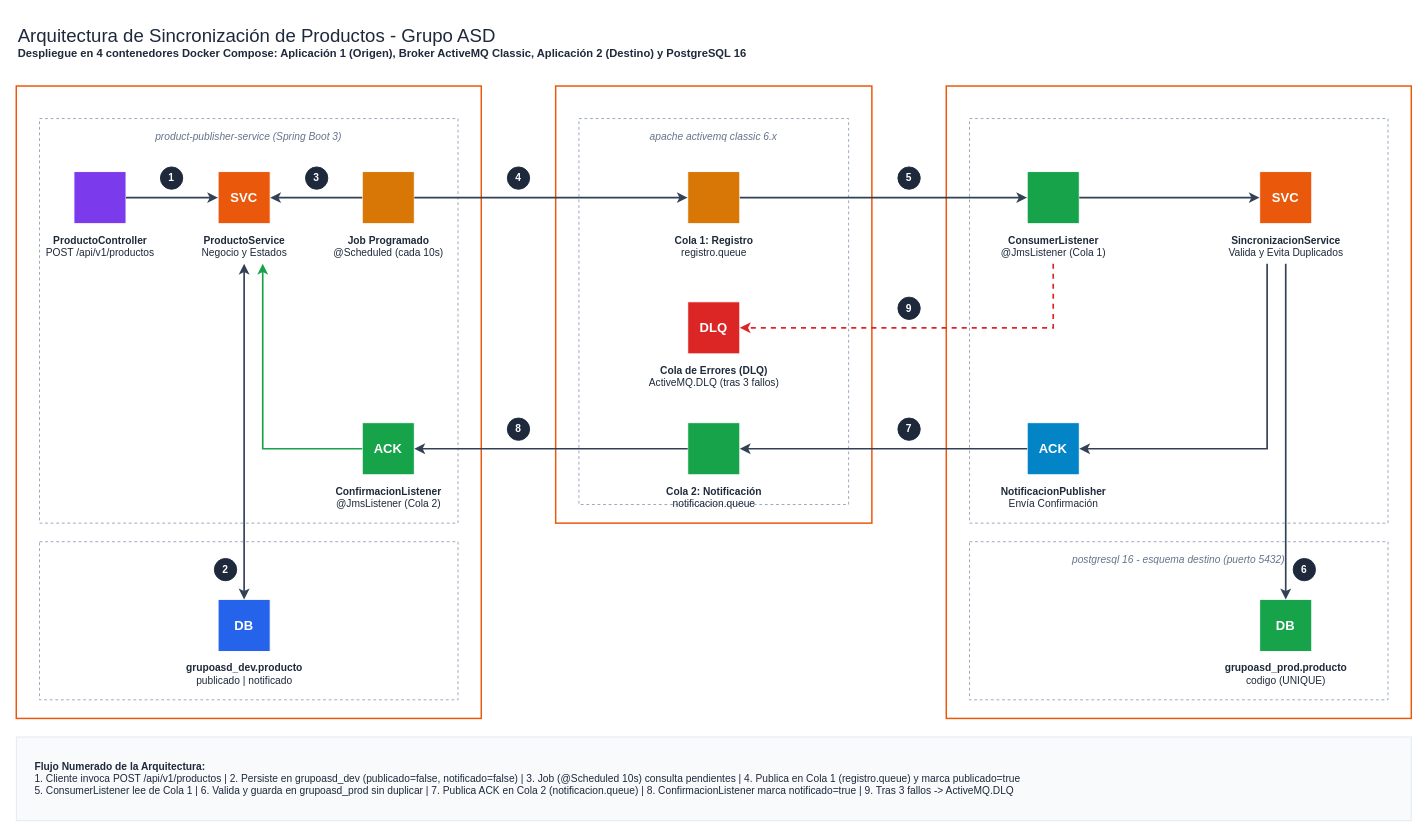
Some shapes in this 1428 by 837 pixel diagram are drawn without their labels. Here are the shapes that lost their labels. From the top down, the box of each, then its label:
(73, 171, 126, 224): API
(361, 171, 414, 224): JOB
(687, 171, 740, 224): Q1
(1026, 171, 1079, 224): JMS
(554, 85, 872, 523): broker de mensajería (61616 / 8161)
(969, 118, 1388, 523): product-consumer-service (Spring Boot 3)
(15, 85, 482, 719): aplicación 1: origen (puerto 8080)
(945, 85, 1412, 719): aplicación 2: destino (puerto 8081)
(687, 422, 740, 475): Q2
(39, 541, 458, 700): postgresql 16 - esquema origen (puerto 5432)
